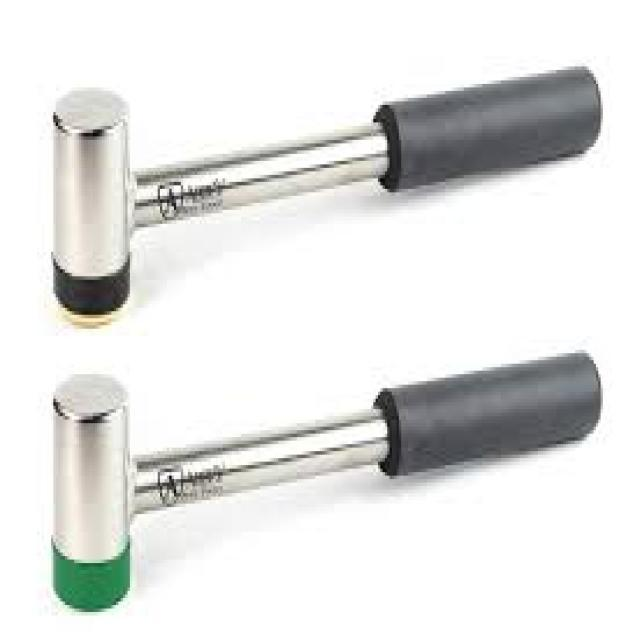Palu: (37, 51, 604, 332), (31, 348, 604, 614)
